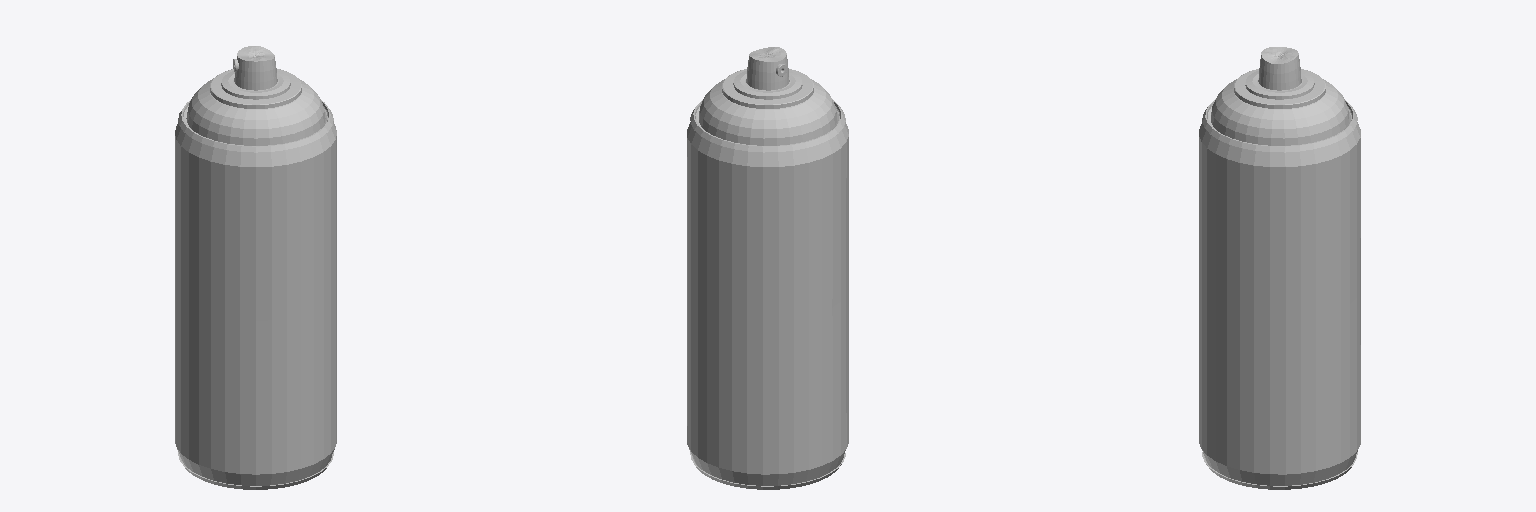
Rendered from spray.obj.
3 renders of one model, left to right at view 1: azimuth 30°, elevation 25°; view 2: azimuth 150°, elevation 25°; view 3: azimuth 270°, elevation 25°, orthographic.
Visible parts, largest first — view 1: SprayPaint_Cylinder; view 2: SprayPaint_Cylinder; view 3: SprayPaint_Cylinder.
Boxes of the visible parts, x1,y1,x2,y2 form: SprayPaint_Cylinder: [175, 46, 336, 489]; SprayPaint_Cylinder: [687, 47, 848, 489]; SprayPaint_Cylinder: [1199, 47, 1360, 489].
Bounding box in the file's own units: 0.2109 × 0.5812 × 0.2109.